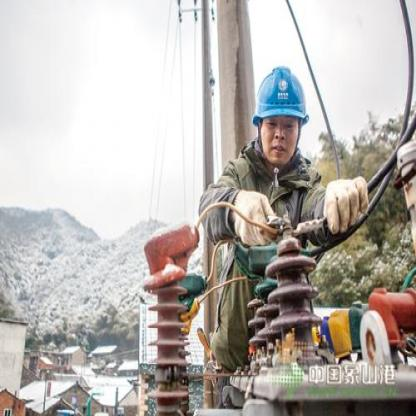helmet: (249, 58, 312, 172)
